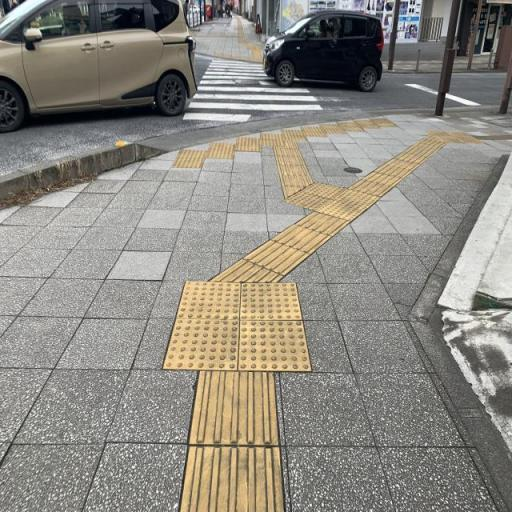dot: (163, 317, 238, 372), (239, 320, 311, 370), (176, 281, 240, 320), (240, 283, 301, 320)
line: (178, 445, 283, 511), (187, 371, 278, 447)
